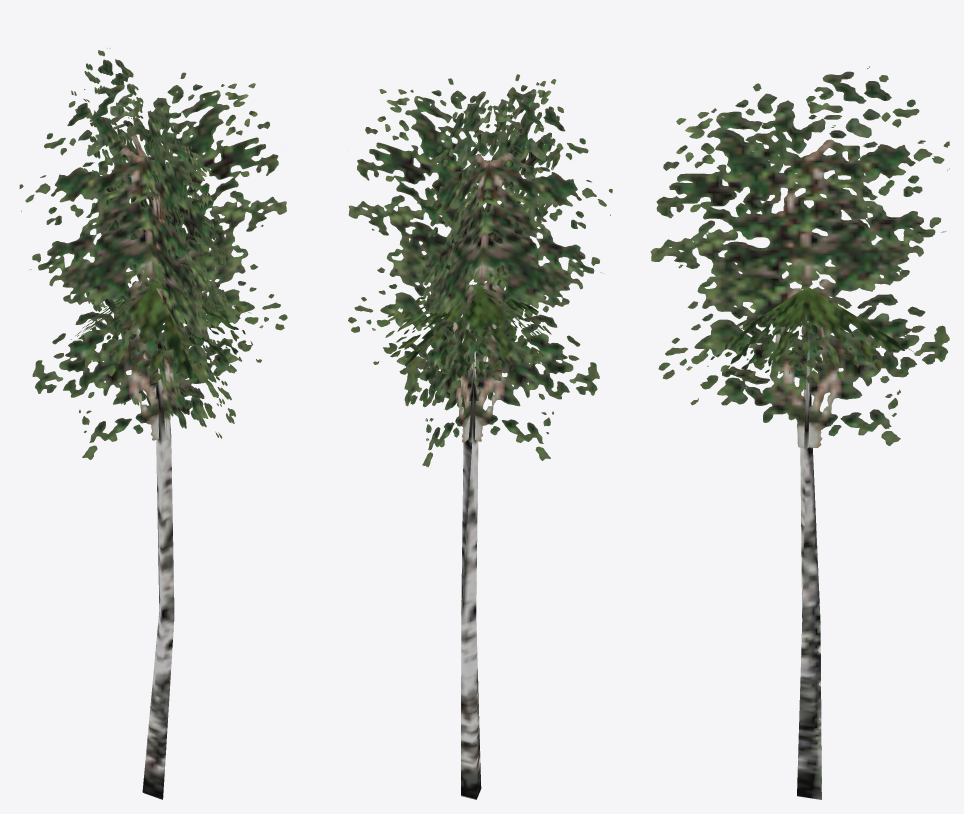
The model's file is birch2.glb.
3 views of the same model, side by side, from view 1: azimuth 30°, elevation 25°; view 2: azimuth 150°, elevation 25°; view 3: azimuth 270°, elevation 25° (orthographic).
Visible parts, largest first — view 1: birch2; view 2: birch2; view 3: birch2.
Part boxes in pixels (x1,y1,x2,y2): birch2: (19,48,287,799); birch2: (348,74,612,799); birch2: (650,66,949,799).
Size of the model in its own units: 4.92 by 12.12 by 4.53.
Materials: 1 (1 with a texture image).
